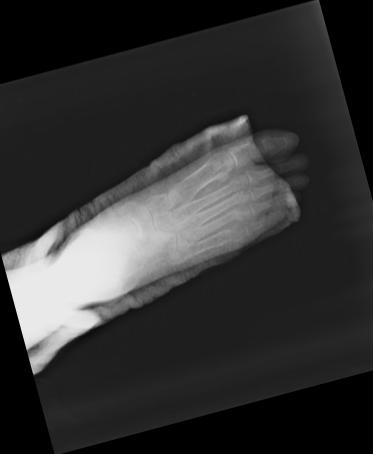fractured: (219, 223, 255, 245)
